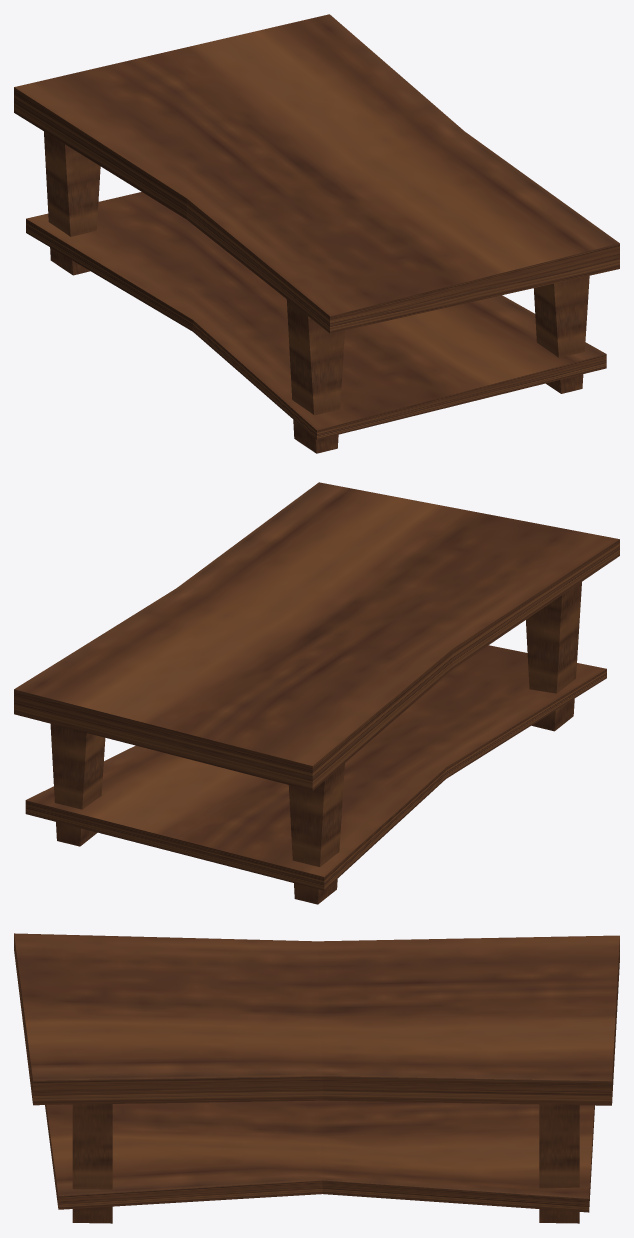
Rendered from ps1_wood_table.glb.
3 views of the same model, one above another, from view 1: azimuth 30°, elevation 25°; view 2: azimuth 150°, elevation 25°; view 3: azimuth 270°, elevation 25° (orthographic). The views are drawn at different scales.
Visible parts, largest first — view 1: Cube_0, Cube.001_1, Cube.002_2, Cube.005_5, Cube.003_3; view 2: Cube_0, Cube.001_1, Cube.002_2, Cube.005_5, Cube.004_4; view 3: Cube_0, Cube.001_1, Cube.003_3, Cube.004_4.
Boxes of the visible parts, x1,y1,x2,y2 form: Cube_0: (14,14,619,333); Cube.001_1: (26,192,606,439); Cube.002_2: (286,299,344,453); Cube.005_5: (44,131,100,275); Cube.003_3: (534,275,589,393); Cube_0: (14,482,619,790); Cube.001_1: (25,645,606,890); Cube.002_2: (526,582,581,731); Cube.005_5: (288,763,344,904); Cube.004_4: (50,724,105,846); Cube_0: (14,933,619,1105); Cube.001_1: (45,1100,594,1212); Cube.003_3: (72,1104,112,1223); Cube.004_4: (539,1104,579,1223).
Bounding box in the file's own units: 1.88 × 0.9468 × 3.31.
Materials: 1 (1 with a texture image).
